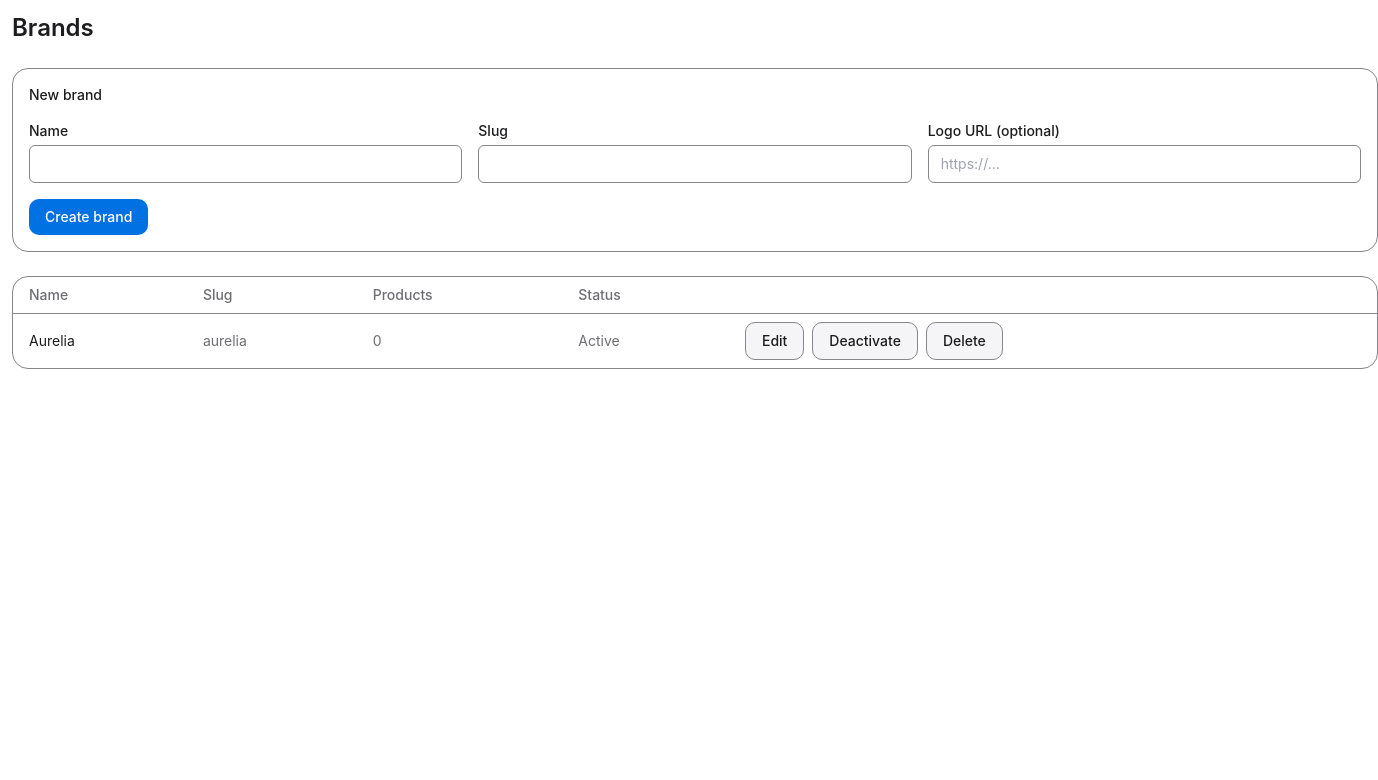
AdminBrandsPage › deactivates an active brand
Expected: the text "Aurelia" is shown, left=13, top=314, right=187, bottom=368
Step 1. Click the button "Deactivate" → x=865, y=341, box left=812, top=322, right=918, bottom=360
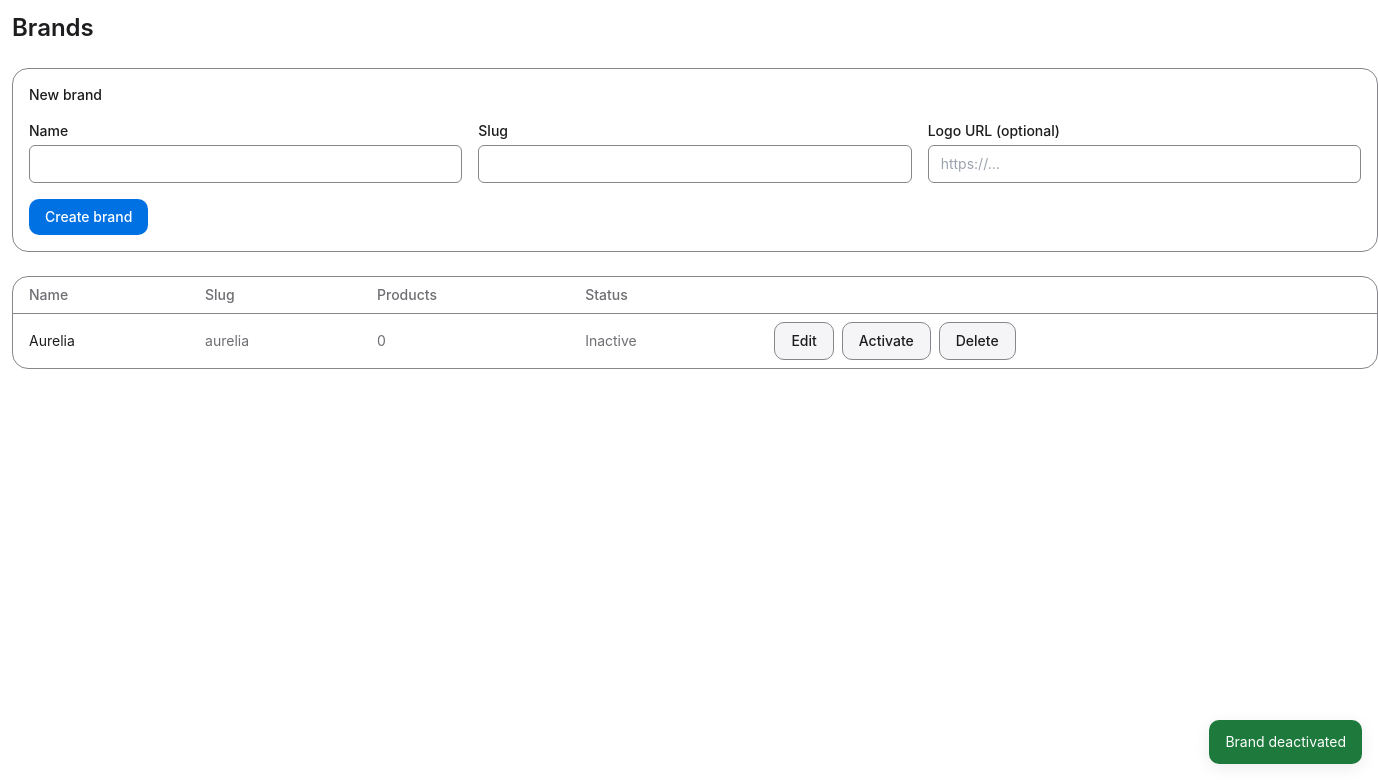
Expected: the text "Brand deactivated" is shown, left=1209, top=720, right=1362, bottom=764
Expected: the text "Inactive" is shown, left=569, top=314, right=758, bottom=368
